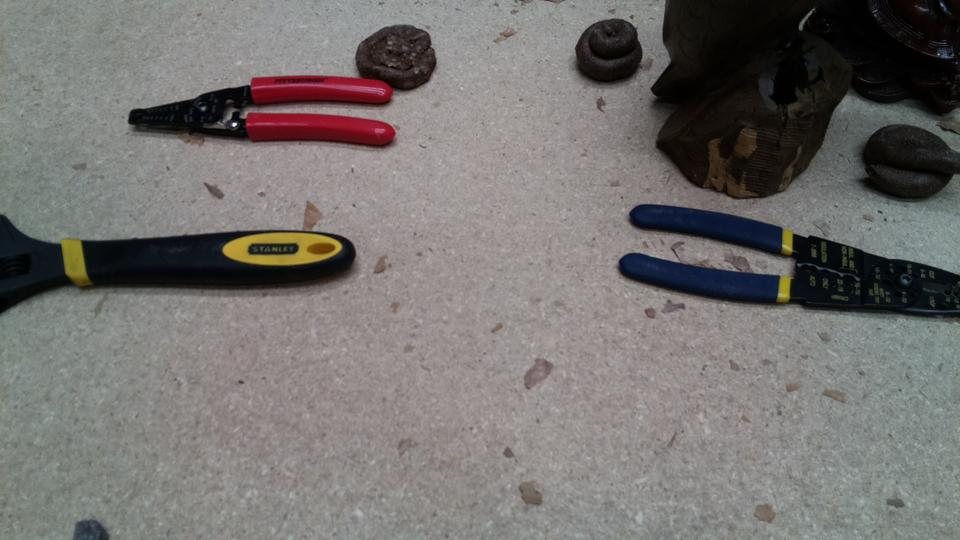poop: (860, 116, 960, 199), (353, 22, 438, 93), (572, 17, 644, 87)
